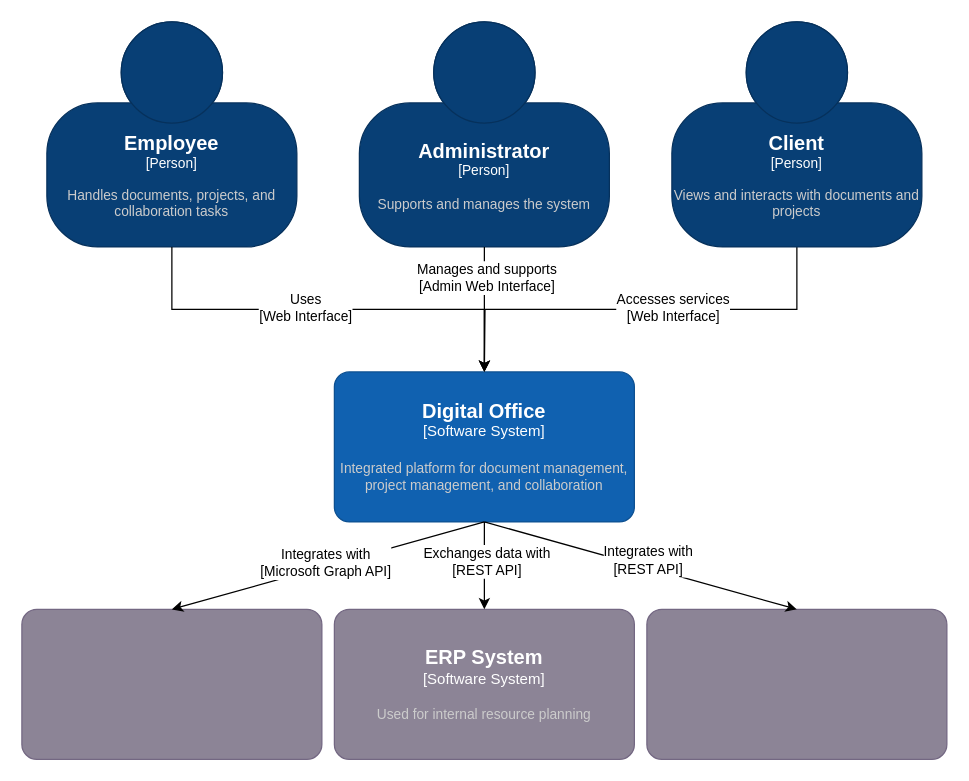
Some shapes in this 969 by 781 pixel diagram are drawn without their labels. The centre of each missing label's shape, as x and y in pixels:
"CRM System [Software System] Used to manage client relationships" goes at (x=796, y=683).
"MS Office [Software System] Used for document creation and editing" goes at (x=171, y=683).
